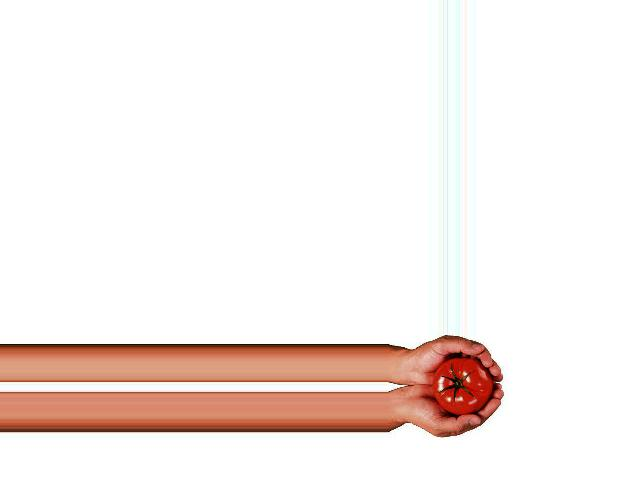tomato: (433, 357, 492, 415)
